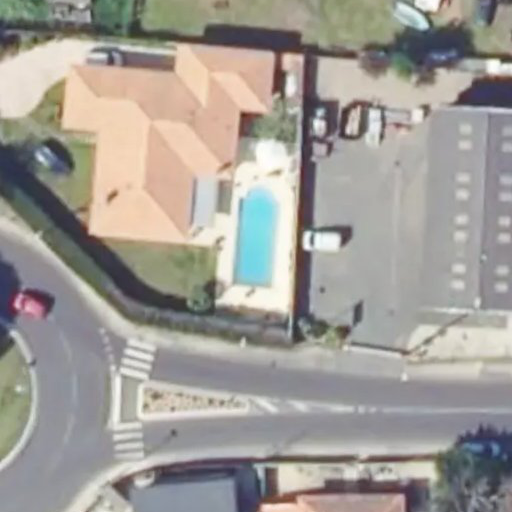pool: (232, 186, 281, 289)
